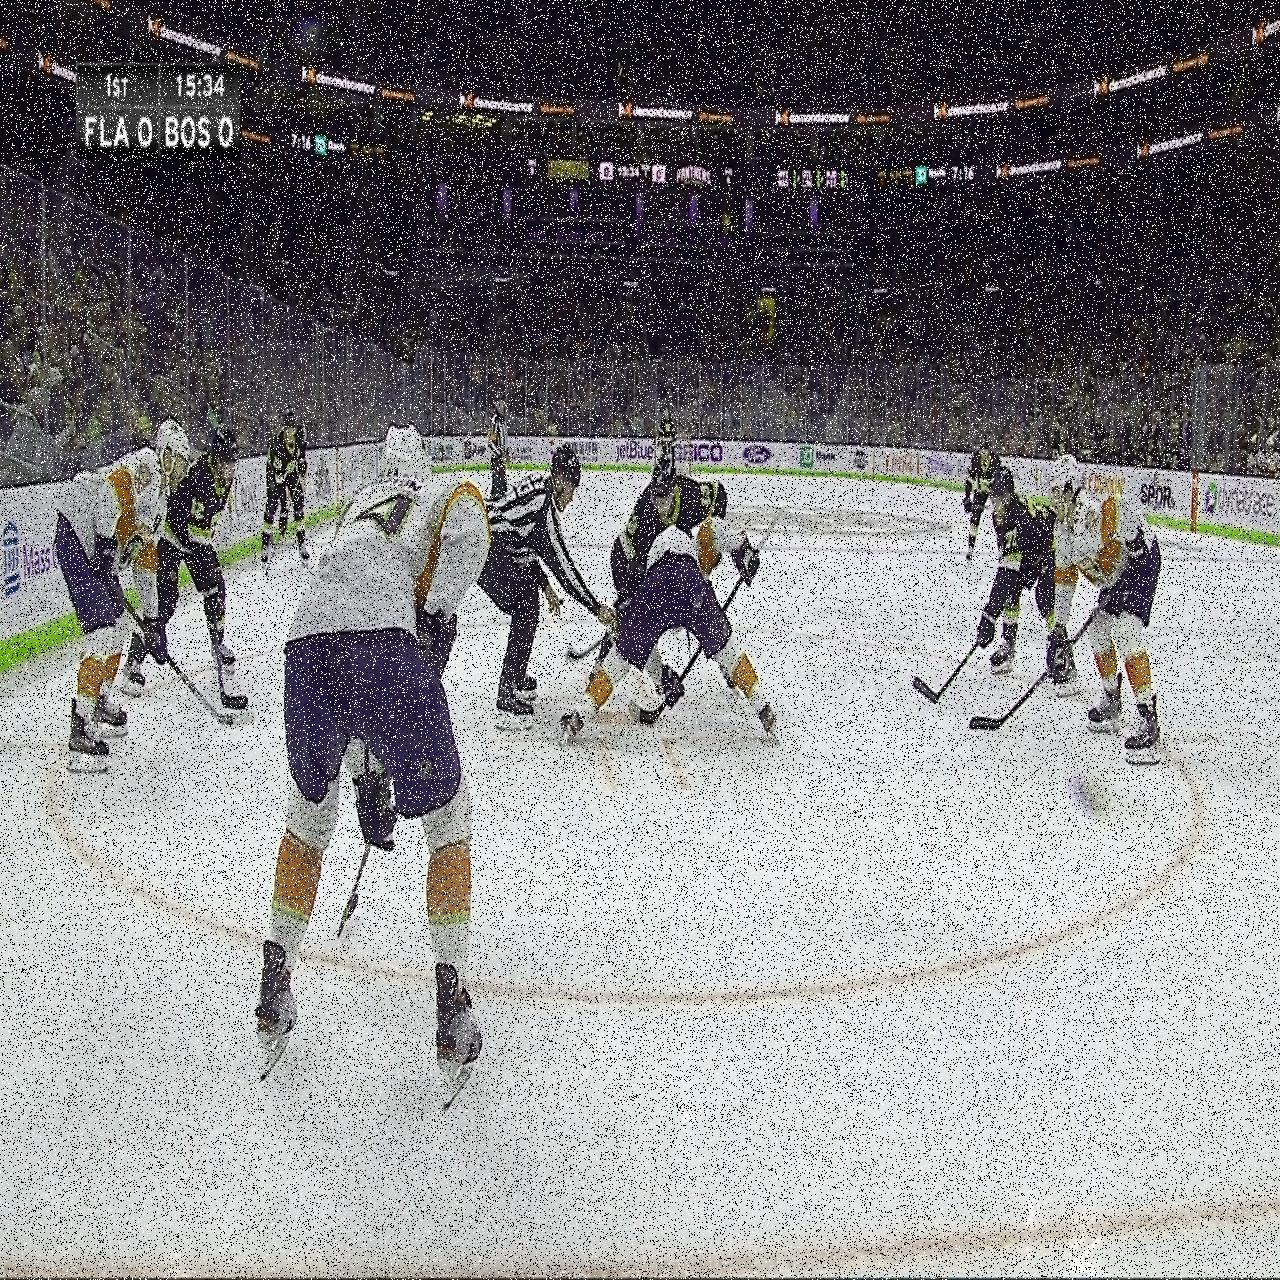Ad: (1, 501, 117, 599), (1205, 476, 1279, 536), (225, 459, 259, 535), (879, 438, 922, 489), (1142, 464, 1176, 520), (617, 434, 659, 476), (1089, 464, 1129, 508), (797, 438, 839, 477), (673, 436, 726, 465), (550, 434, 601, 462), (933, 445, 967, 486), (425, 431, 454, 479), (740, 438, 771, 475), (313, 448, 331, 510), (464, 427, 485, 469), (342, 443, 359, 497), (853, 441, 870, 469)
